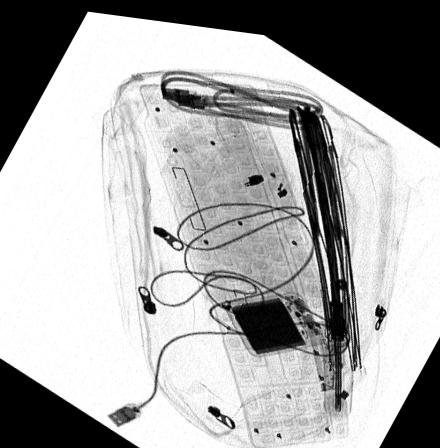Powerbank: (223, 282, 327, 350)
